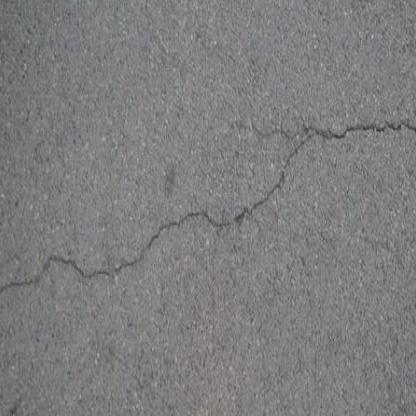Cracks: (0, 95, 416, 328)
